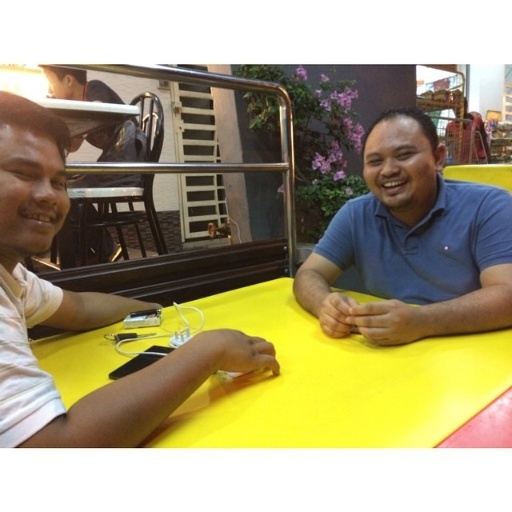hand: (147, 327, 289, 387), (343, 297, 429, 348), (316, 291, 360, 339)
